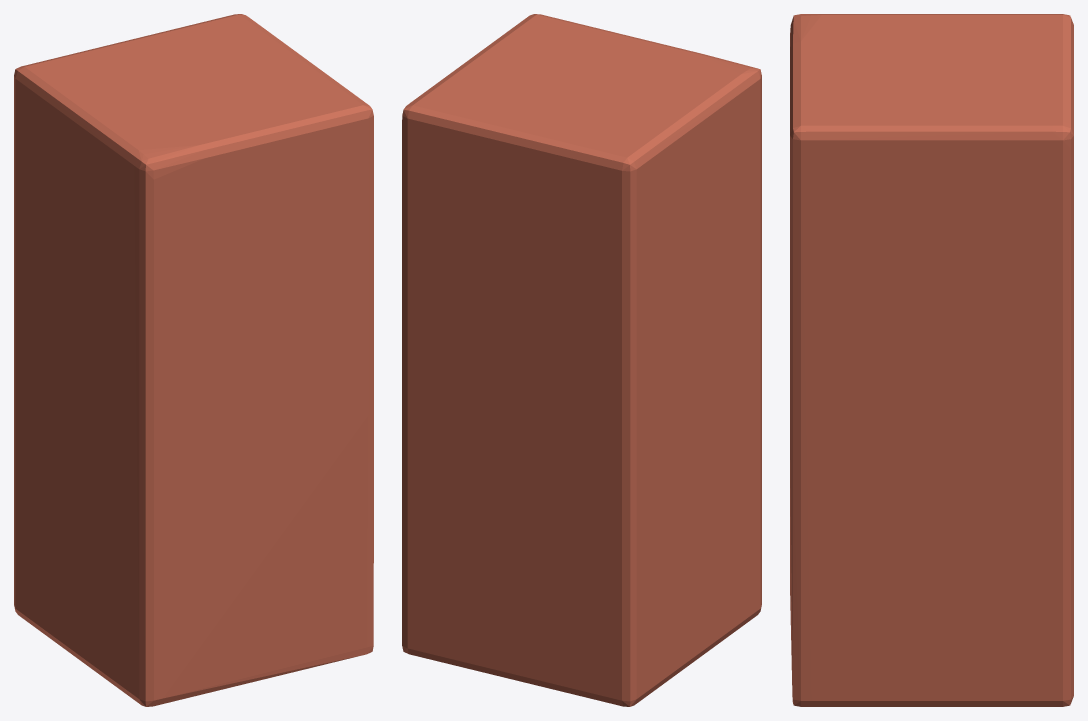
Rendered from right_hip_roll_link_part_9.obj.
The picture shows the model from 3 angles, left to right: view 1: azimuth 30°, elevation 25°; view 2: azimuth 150°, elevation 25°; view 3: azimuth 270°, elevation 25°; orthographic projection. The views are drawn at different scales.
Bounding box in the file's own units: 0.0335 × 0.0752 × 0.0334.
